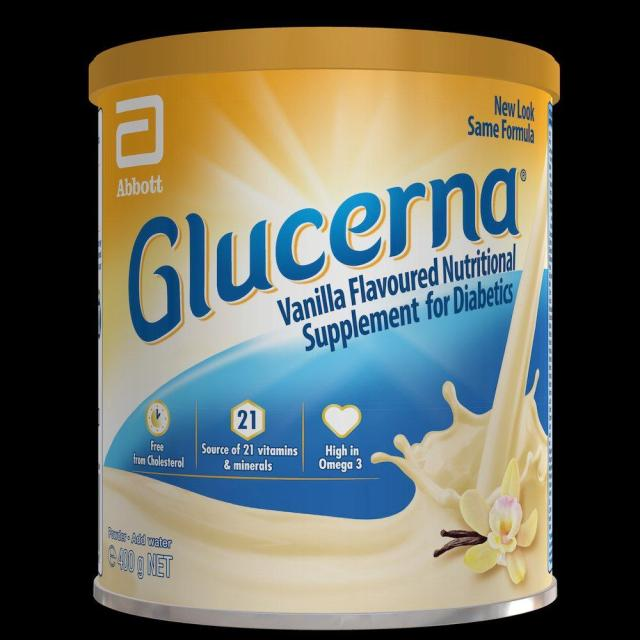food-supliment: (102, 75, 549, 610)
